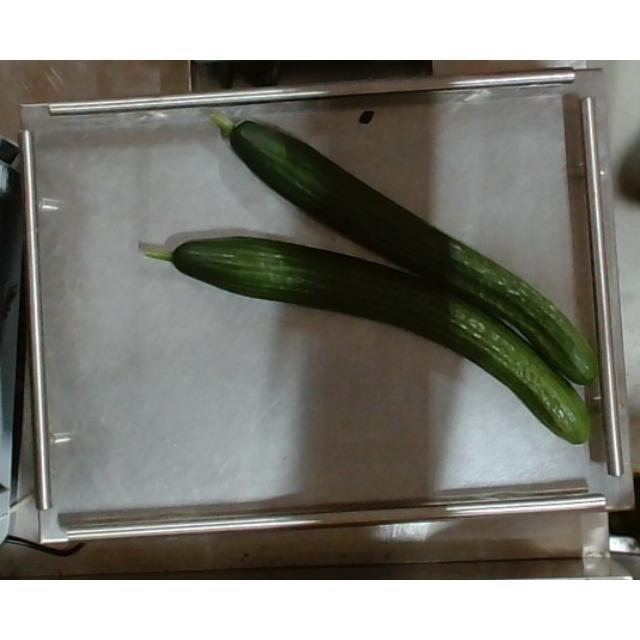cucumber: (202, 113, 602, 387), (140, 218, 598, 446)
